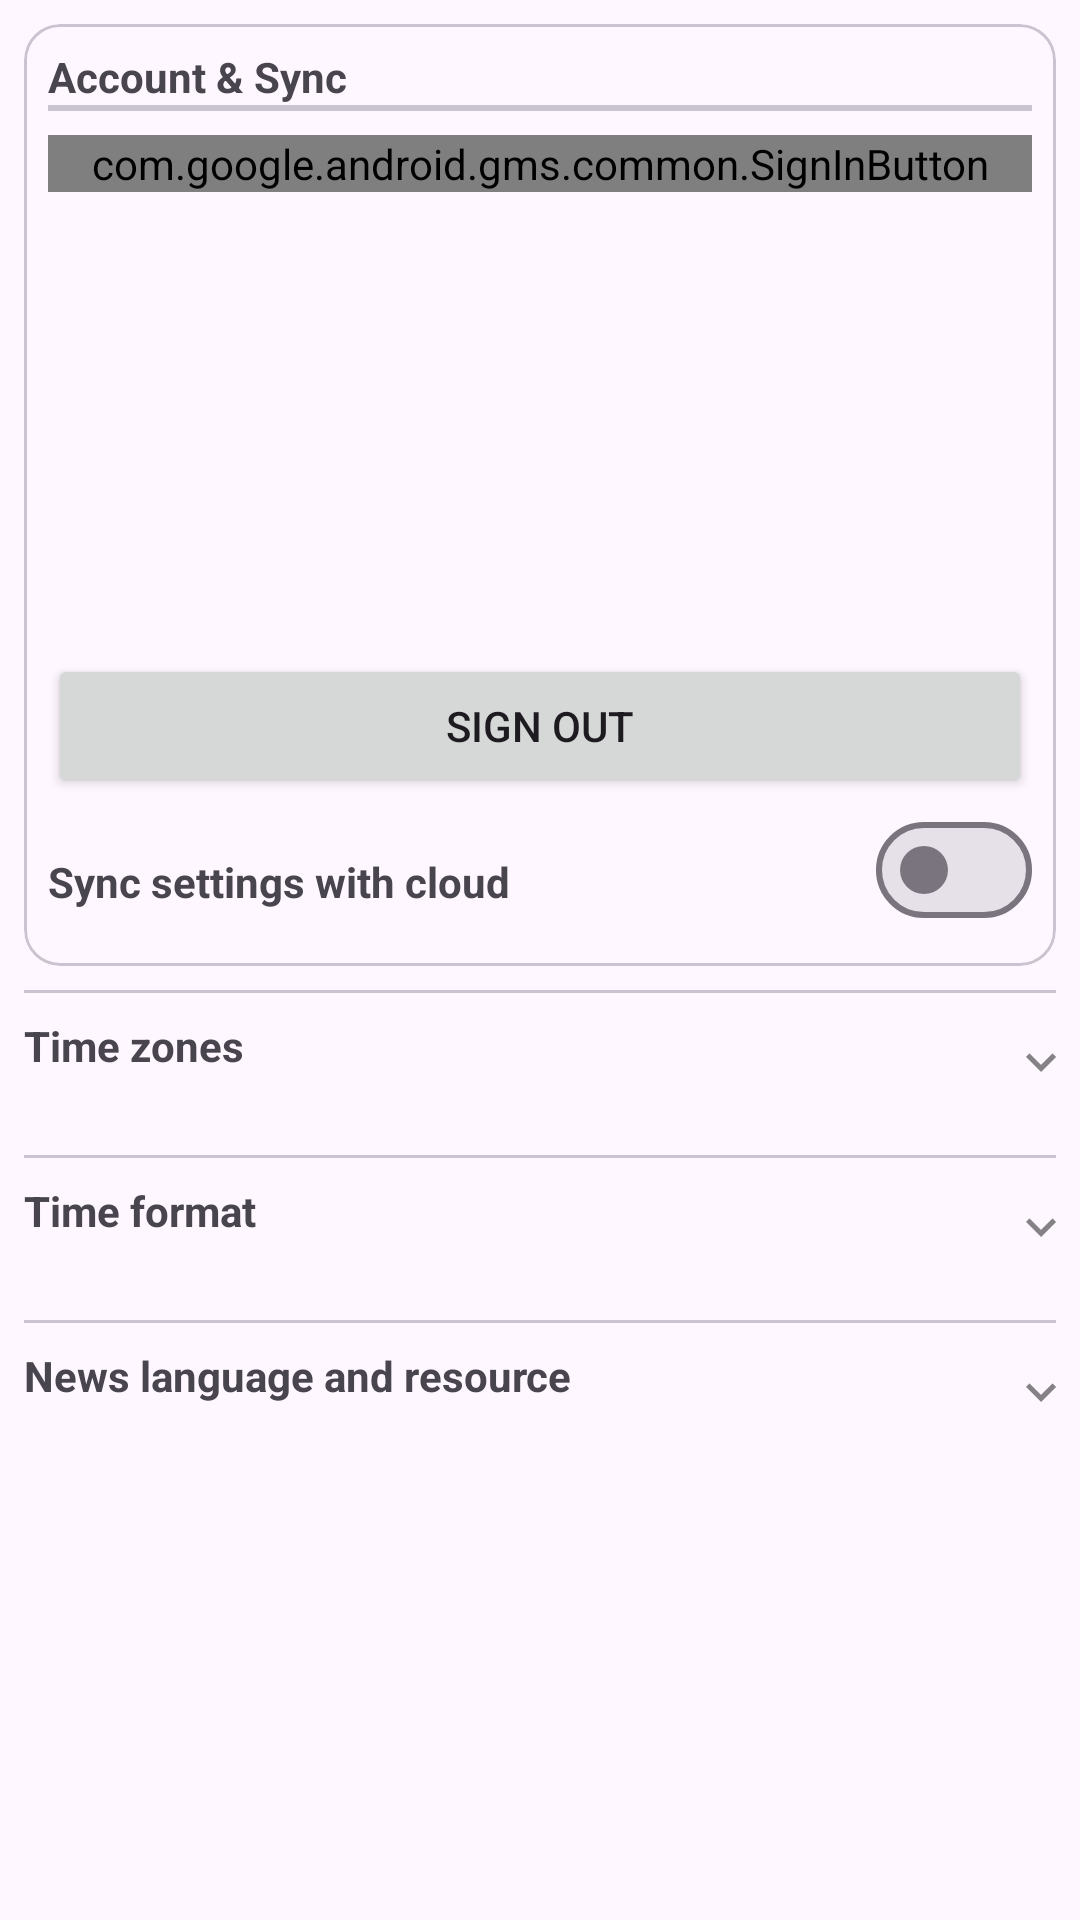

Point at icon controls on the screen. Image size 1080px x 1920px, points as (x,y).
drop menu: (1041,1062), (1041,1227), (1041,1392)
